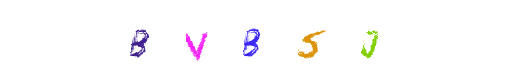B: (154, 0, 234, 80), (156, 0, 236, 80)
J: (295, 0, 375, 80)
S: (222, 0, 302, 80)
V: (156, 0, 236, 80)
